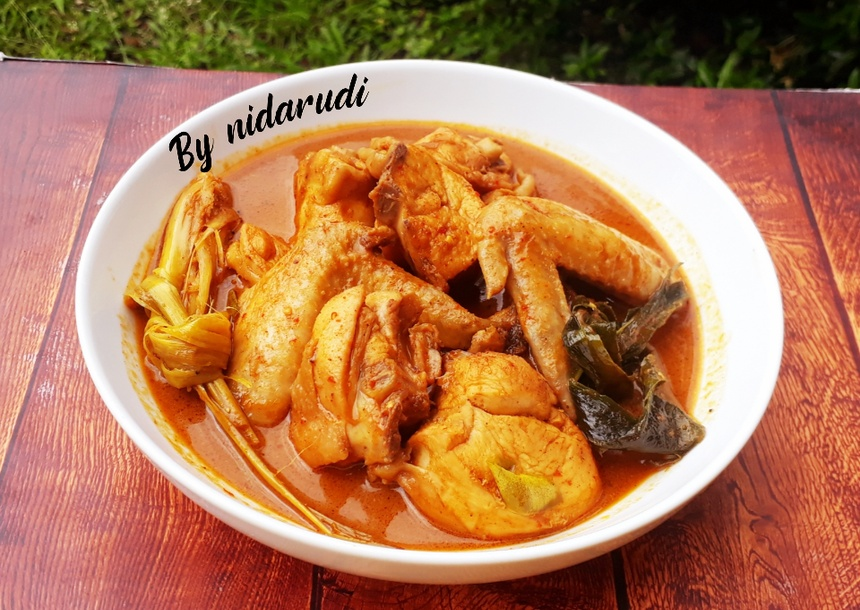gulai_ayam: (124, 121, 724, 549)
